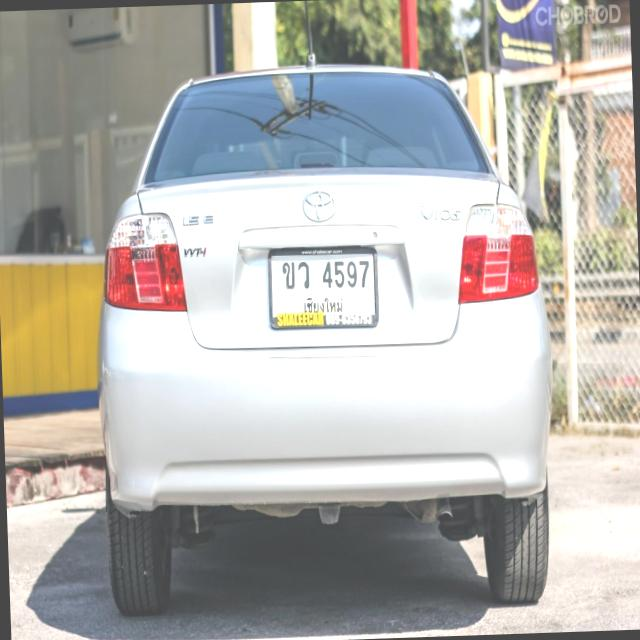license_plate: (262, 238, 383, 338)
